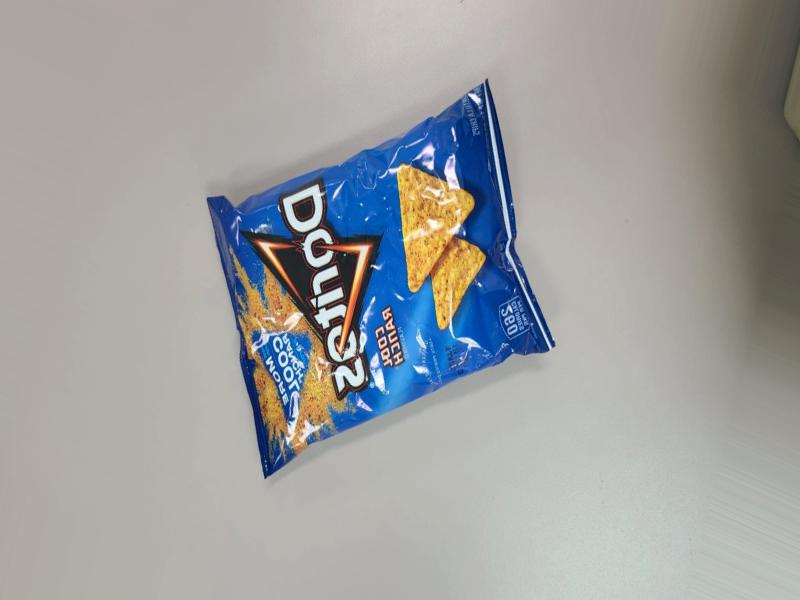doritos: (214, 71, 551, 476)
